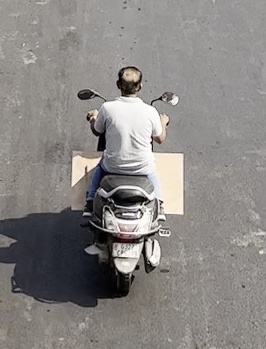BikeWithRider: (74, 66, 179, 293)
NoHelmet: (115, 67, 143, 97)
